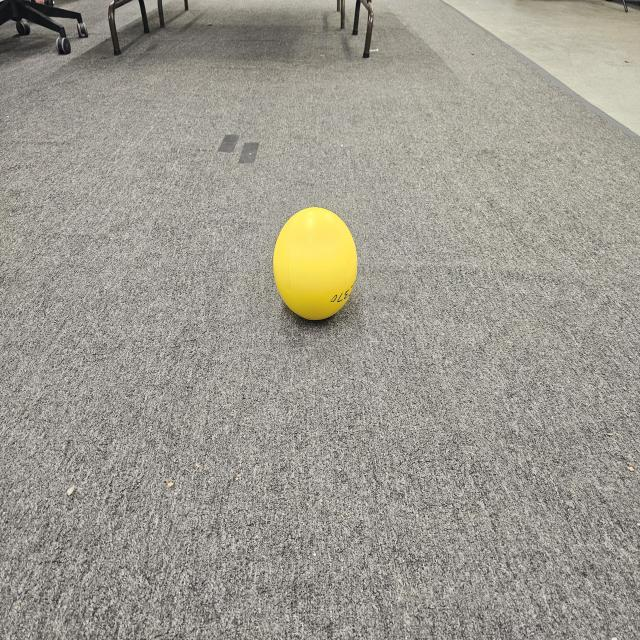Fuel: (274, 206, 358, 320)
